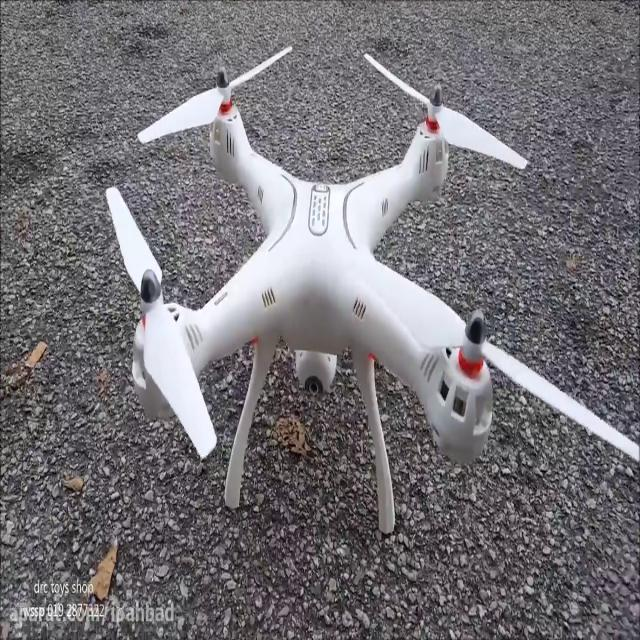drone: (103, 40, 638, 535)
